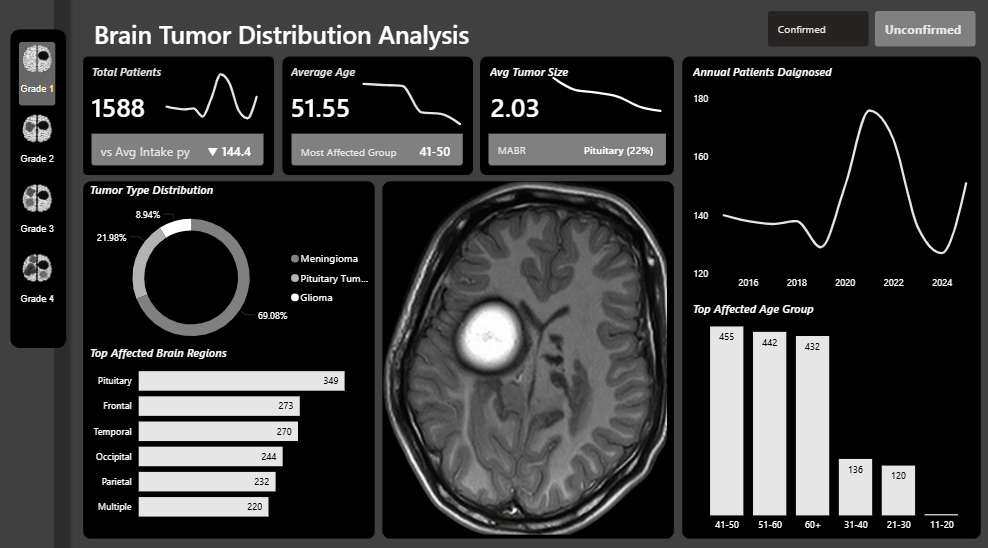

Layout of this report page (visuals, bound fields, positions):
{"tool":"powerbi","page":{"name":"Page 1","canvas":[1280,720],"ordinal":0},"visuals":[{"type":"cardVisual","fields":{"Data":["Count(Brain Tumor Data.Patient ID)"]},"box":[92.1,96.4,137.5,89.3],"z":0},{"type":"lineChart","fields":{"Category":["Brain Tumor Data.Date of Diagnosis.Variation.Date Hierarchy.Year"],"Y":["CountNonNull(Brain Tumor Data.Patient ID)"]},"box":[202.7,83.6,146,89.3],"z":1000},{"type":"cardVisual","fields":{"Data":["Count(Brain Tumor Data.Patient ID)"]},"box":[92.1,83.6,280.6,165.8],"z":2000},{"type":"textbox","box":[116.2,83.6,113.4,45.4],"z":3000},{"type":"cardVisual","fields":{"Data":["Avg(Brain Tumor Data.Age)"]},"box":[348.7,96.4,151.7,89.3],"z":4000},{"type":"lineChart","fields":{"Y":["CountNonNull(Brain Tumor Data.Patient ID)"],"Category":["Brain Tumor Data.Age Group"]},"box":[456.4,83.6,154.5,89.3],"z":5000},{"type":"cardVisual","fields":{"Data":["Count(Brain Tumor Data.Patient ID)"]},"box":[350.1,83.6,279.2,165.8],"z":6000},{"type":"textbox","box":[372.8,83.6,113.4,45.4],"z":7000},{"type":"textbox","box":[629.3,83.6,113.4,45.4],"z":8000},{"type":"cardVisual","fields":{"Data":["Count(Brain Tumor Data.Patient ID)"]},"box":[603.8,83.6,287.7,165.8],"z":9000},{"type":"cardVisual","fields":{"Data":["Avg(Brain Tumor Data.Tumor Size (cm))"]},"box":[606.6,96.4,141.7,89.3],"z":10000},{"type":"lineChart","fields":{"Y":["Avg(Brain Tumor Data.Tumor Size (cm))"],"Category":["Brain Tumor Data.Affected Brain Region"]},"box":[700.2,83.6,170.1,89.3],"z":11000},{"type":"advancedSlicerVisual","fields":{"Values":["Brain Tumor Data.Histology Confirmation"]},"box":[987.9,15.6,279.2,56.7],"z":12000},{"type":"ChicletSlicer1448559807354","fields":{"Category":["Tumor Images.Tumor Grade"],"Image":["Tumor Images.Icon URL"]},"box":[18.4,51,73.7,395.4],"z":13000},{"type":"imageDB603108E3FF4EBFB8047F5653368E8C","fields":{"imageUrl":["Tumor Images.Image URL"]},"box":[490.4,236.7,379.8,464.9],"z":14000},{"type":"donutChart","fields":{"Category":["Brain Tumor Data.Tumor Type"],"Y":["CountNonNull(Brain Tumor Data.Patient ID)"]},"box":[116.2,249.4,377,231],"z":15000},{"type":"textbox","box":[113.4,236.7,177.2,45.4],"z":16000},{"type":"clusteredBarChart","fields":{"Category":["Brain Tumor Data.Affected Brain Region"],"Y":["CountNonNull(Brain Tumor Data.Patient ID)"]},"box":[113.4,459.2,367.1,232.4],"z":17000},{"type":"textbox","box":[113.4,446.5,205.5,45.4],"z":18000},{"type":"lineChart","fields":{"Y":["CountNonNull(Brain Tumor Data.Patient ID)"],"Category":["Brain Tumor Data.Date of Diagnosis.Variation.Date Hierarchy.Year"]},"box":[891.5,120.5,375.6,269.3],"z":19000},{"type":"textbox","box":[891.5,83.6,205.5,36.9],"z":20000},{"type":"clusteredColumnChart","fields":{"Category":["Brain Tumor Data.Age Group"],"Y":["CountNonNull(Brain Tumor Data.Patient ID)"]},"box":[891.5,389.8,375.6,311.8],"z":21000},{"type":"textbox","box":[891.5,389.8,188.5,39.7],"z":22000},{"type":"textbox","box":[119.1,22.7,521.6,60.9],"z":22001}]}

Visuals, with their boxes in screenshot pixels (x1, y1, x2, y2), scaled from the page's 1280x720 canvas onto the 988x548 screenshot:
cardVisual - Count(Brain Tumor Data.Patient ID): detection(71, 73, 177, 141)
lineChart - Brain Tumor Data.Date of Diagnosis.Variation.Date Hierarchy.Year x CountNonNull(Brain Tumor Data.Patient ID): detection(156, 64, 269, 132)
cardVisual - Count(Brain Tumor Data.Patient ID): detection(71, 64, 288, 190)
textbox: detection(90, 64, 177, 98)
cardVisual - Avg(Brain Tumor Data.Age): detection(269, 73, 386, 141)
lineChart - CountNonNull(Brain Tumor Data.Patient ID) x Brain Tumor Data.Age Group: detection(352, 64, 472, 132)
cardVisual - Count(Brain Tumor Data.Patient ID): detection(270, 64, 486, 190)
textbox: detection(288, 64, 375, 98)
textbox: detection(486, 64, 573, 98)
cardVisual - Count(Brain Tumor Data.Patient ID): detection(466, 64, 688, 190)
cardVisual - Avg(Brain Tumor Data.Tumor Size (cm)): detection(468, 73, 578, 141)
lineChart - Avg(Brain Tumor Data.Tumor Size (cm)) x Brain Tumor Data.Affected Brain Region: detection(540, 64, 672, 132)
advancedSlicerVisual - Brain Tumor Data.Histology Confirmation: detection(763, 12, 978, 55)
ChicletSlicer1448559807354 - Tumor Images.Tumor Grade x Tumor Images.Icon URL: detection(14, 39, 71, 340)
imageDB603108E3FF4EBFB8047F5653368E8C - Tumor Images.Image URL: detection(379, 180, 672, 534)
donutChart - Brain Tumor Data.Tumor Type x CountNonNull(Brain Tumor Data.Patient ID): detection(90, 190, 381, 366)
textbox: detection(88, 180, 224, 215)
clusteredBarChart - Brain Tumor Data.Affected Brain Region x CountNonNull(Brain Tumor Data.Patient ID): detection(88, 350, 371, 526)
textbox: detection(88, 340, 246, 374)
lineChart - CountNonNull(Brain Tumor Data.Patient ID) x Brain Tumor Data.Date of Diagnosis.Variation.Date Hierarchy.Year: detection(688, 92, 978, 297)
textbox: detection(688, 64, 847, 92)
clusteredColumnChart - Brain Tumor Data.Age Group x CountNonNull(Brain Tumor Data.Patient ID): detection(688, 297, 978, 534)
textbox: detection(688, 297, 834, 327)
textbox: detection(92, 17, 495, 64)
